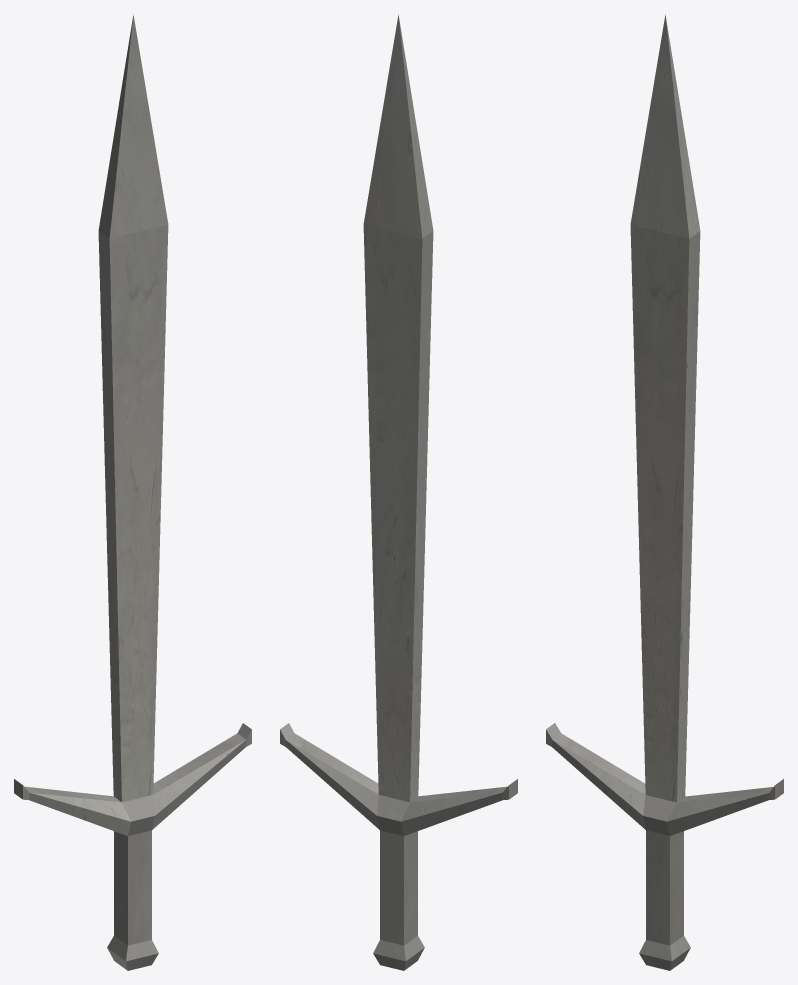
File: sword.fbx
3 renders of one model, left to right at view 1: azimuth 30°, elevation 25°; view 2: azimuth 150°, elevation 25°; view 3: azimuth 330°, elevation 25°, orthographic.
Visible parts, largest first — view 1: Cube; view 2: Cube; view 3: Cube.
Boxes of the visible parts, bbox=[...] form: Cube: bbox=[14, 14, 251, 970]; Cube: bbox=[280, 14, 517, 970]; Cube: bbox=[546, 14, 783, 970].
Size of the model in its own units: 1902 by 7534 by 289.
